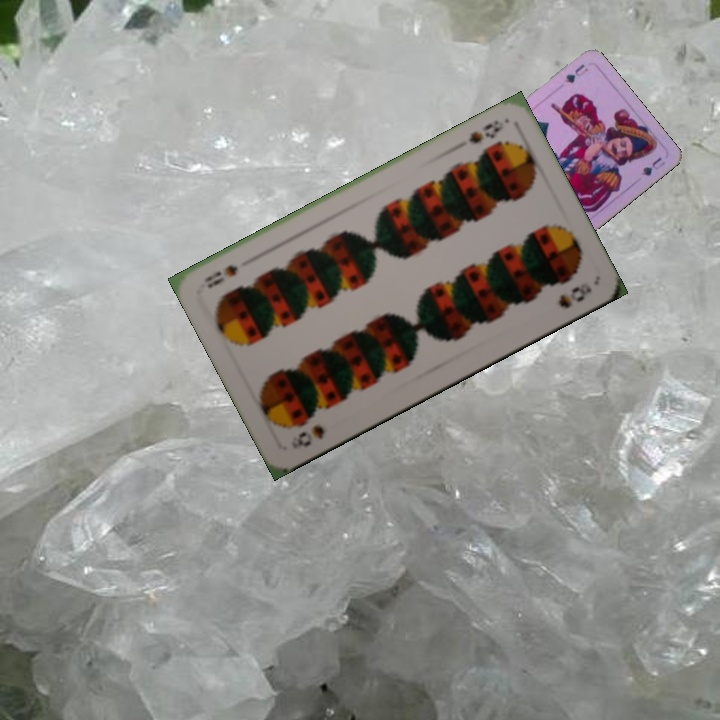GU: (560, 60, 591, 86)
S8: (464, 116, 507, 147), (293, 421, 328, 450)
